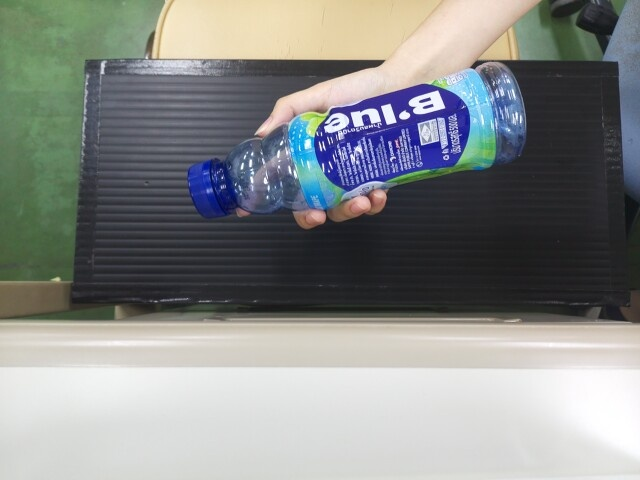plastic_bottle: (188, 80, 531, 211)
